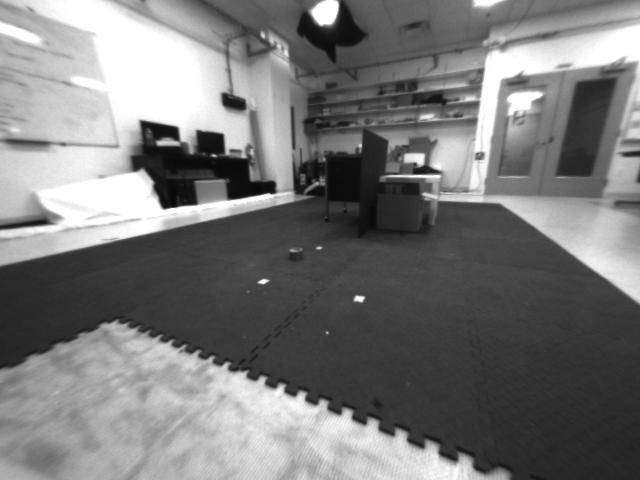dogtoy: (281, 241, 310, 262)
